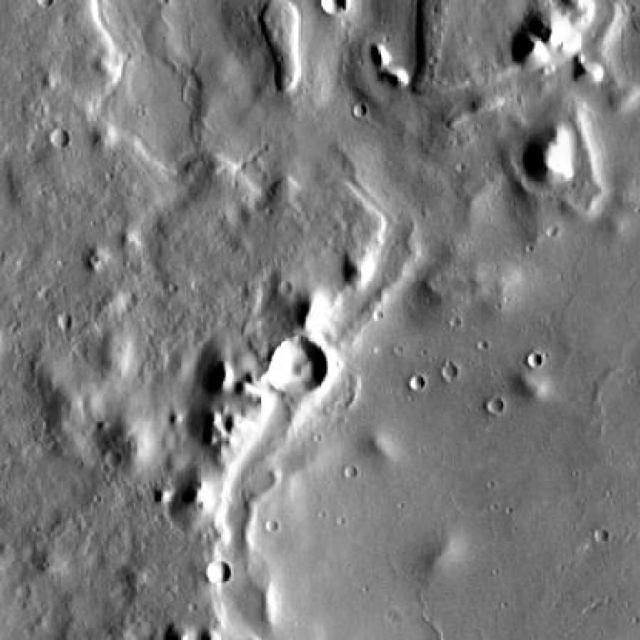crater: (211, 249, 640, 640), (269, 332, 326, 390), (206, 562, 234, 589), (318, 0, 344, 17), (48, 126, 68, 146), (488, 395, 506, 414), (411, 376, 426, 392), (441, 368, 456, 384)
